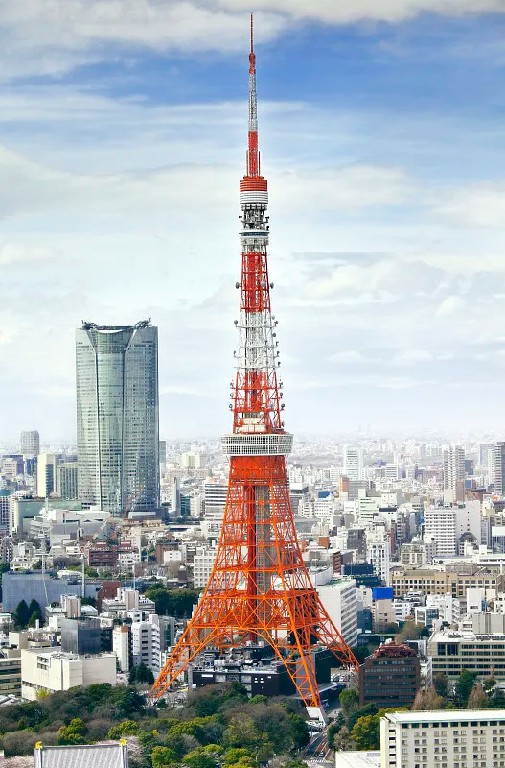Tokyo: (147, 12, 358, 739)
